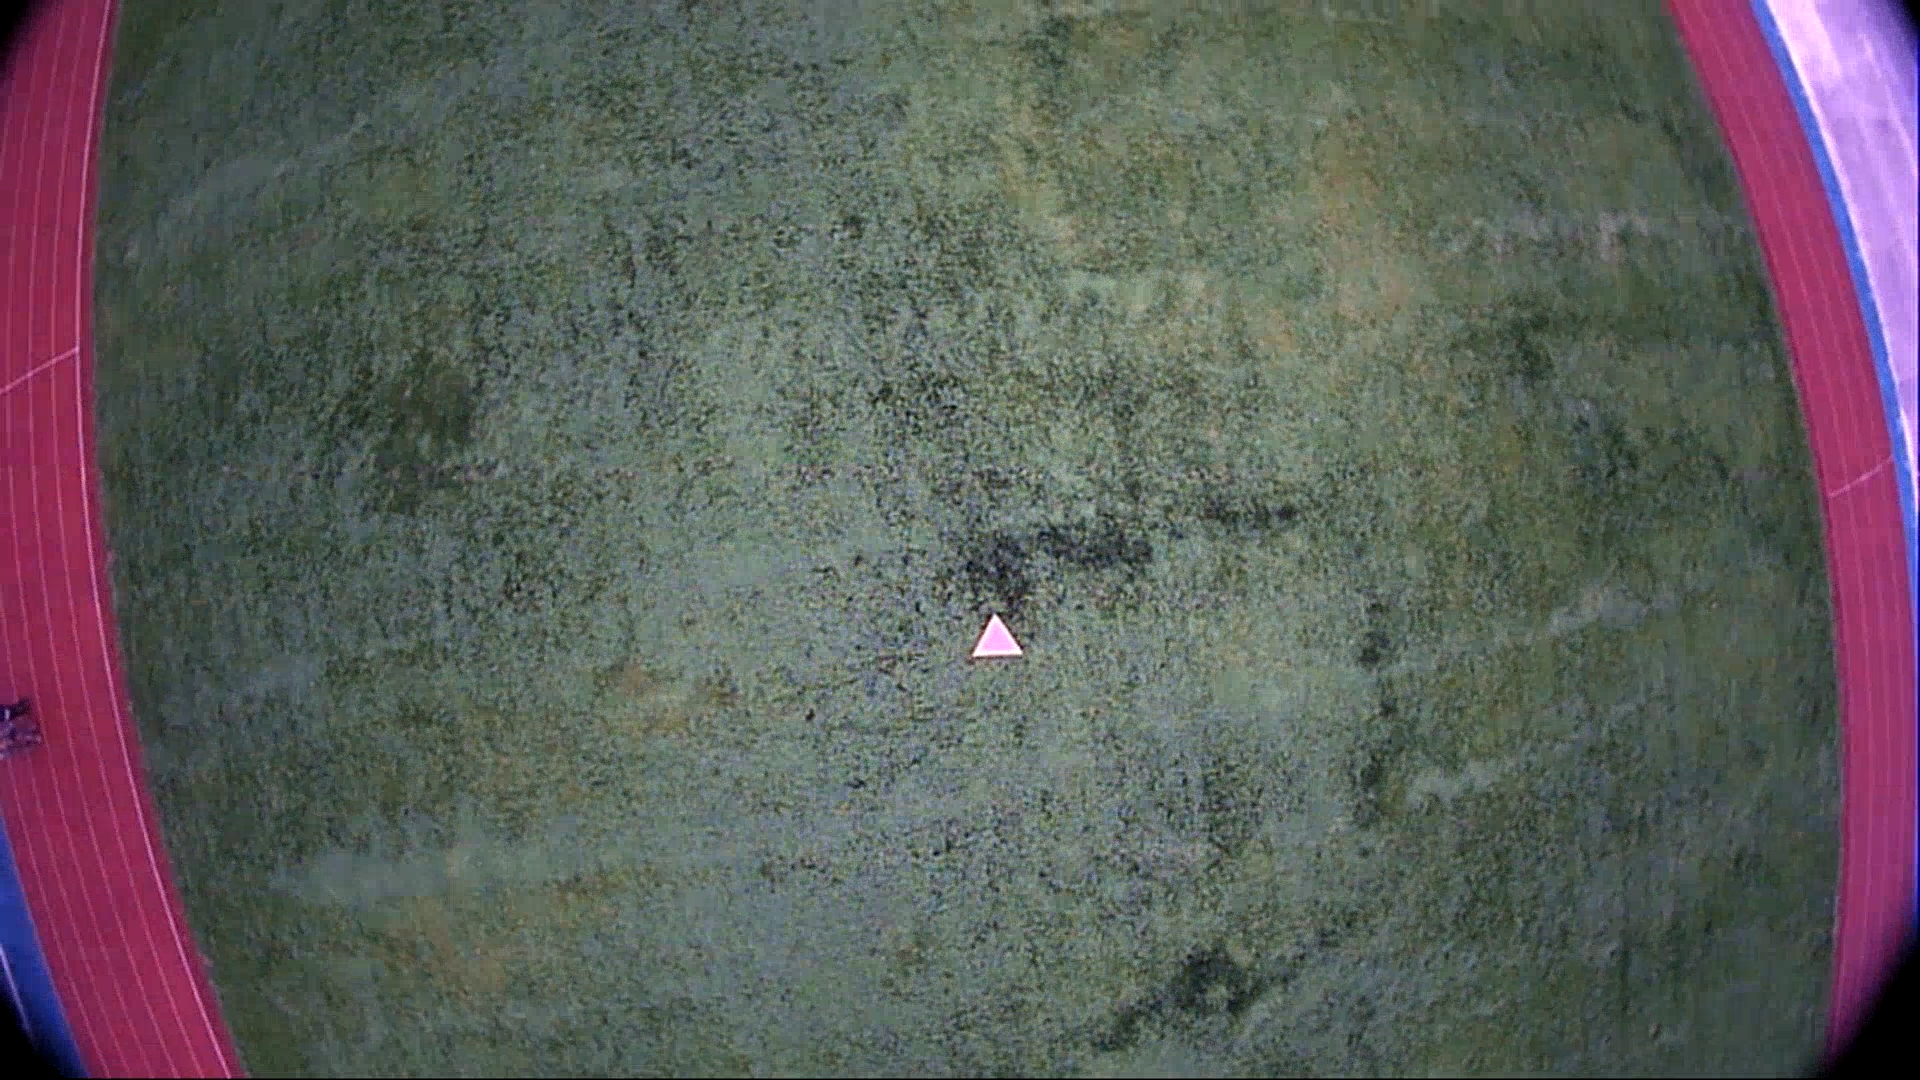triangle: (969, 608, 1029, 665)
